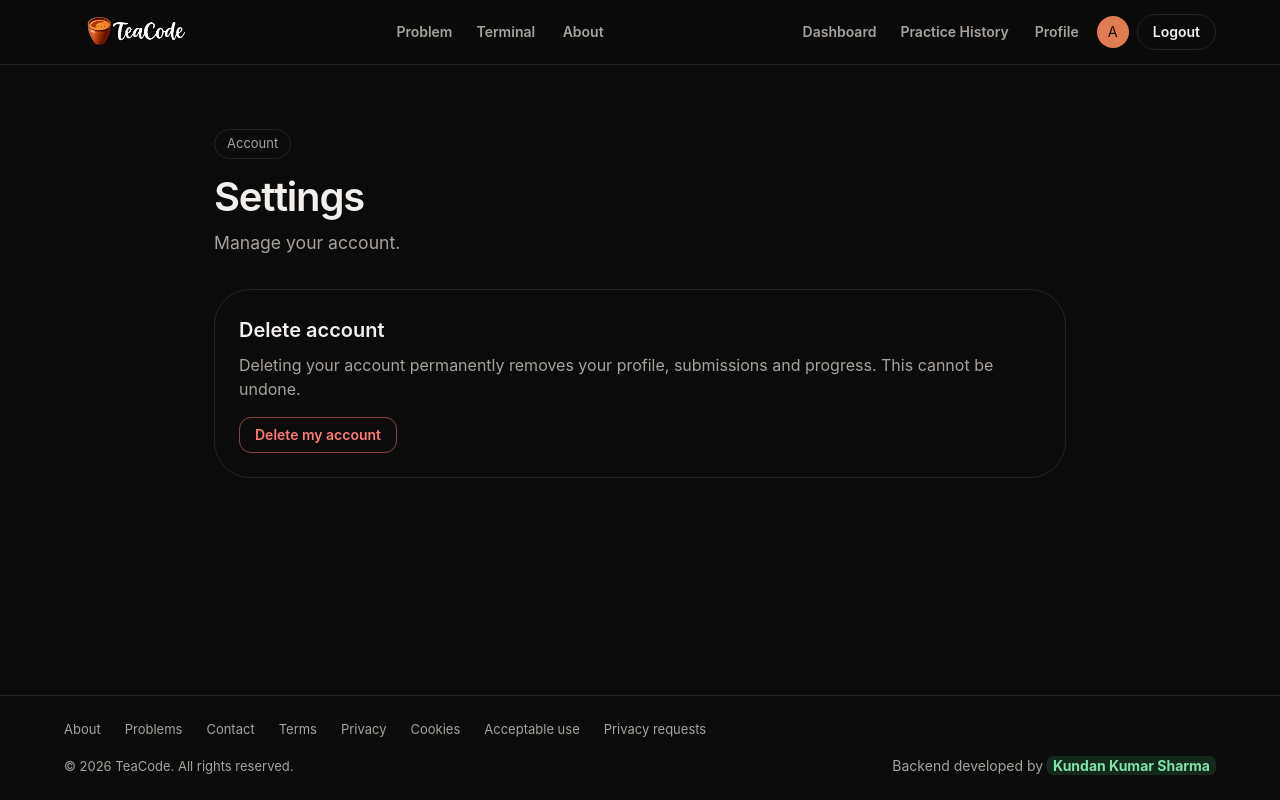
Test: settings › keeps the account and shows the error when deletion fails
Click the button "Delete my account". click: (318, 435)
box: top-left (239, 417), bottom-right (397, 453)
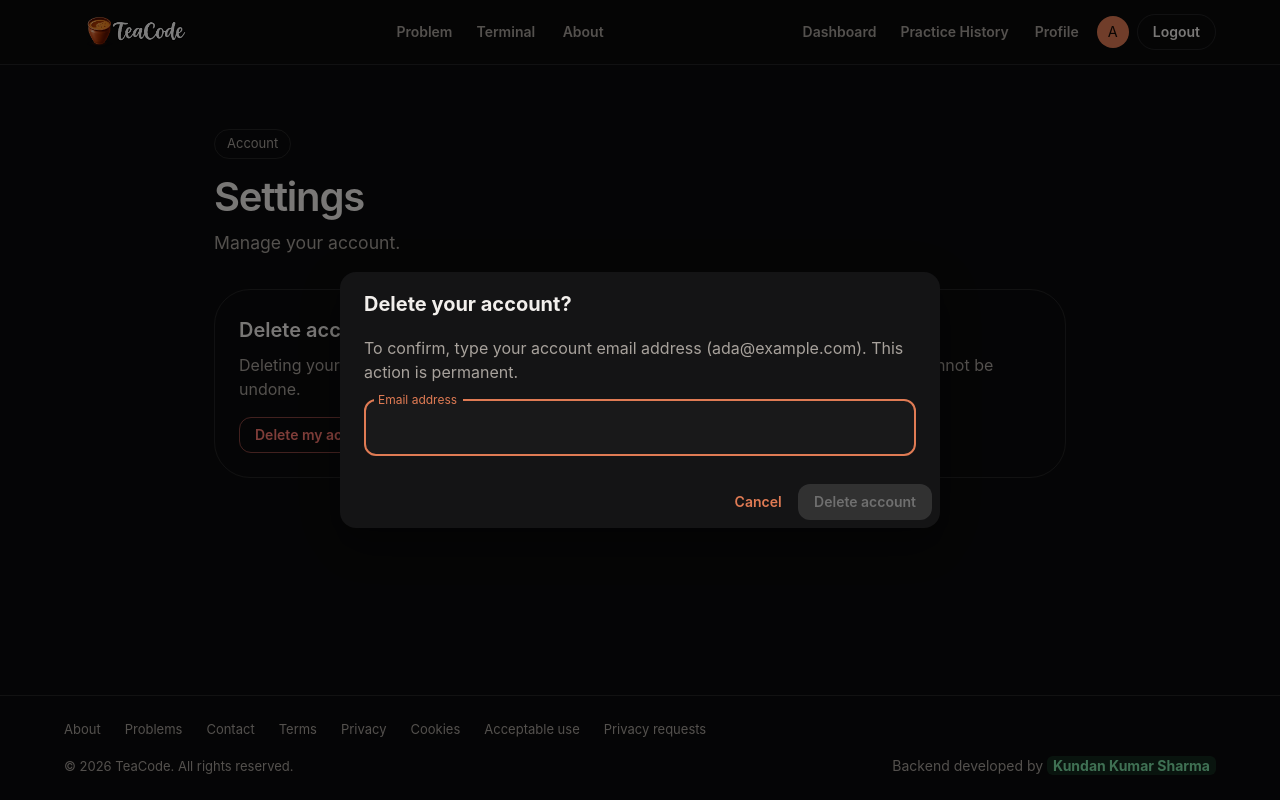
Type "wrong@example.com" into the field labelled "Email address". click: (640, 428)
box: top-left (364, 400), bottom-right (916, 456)
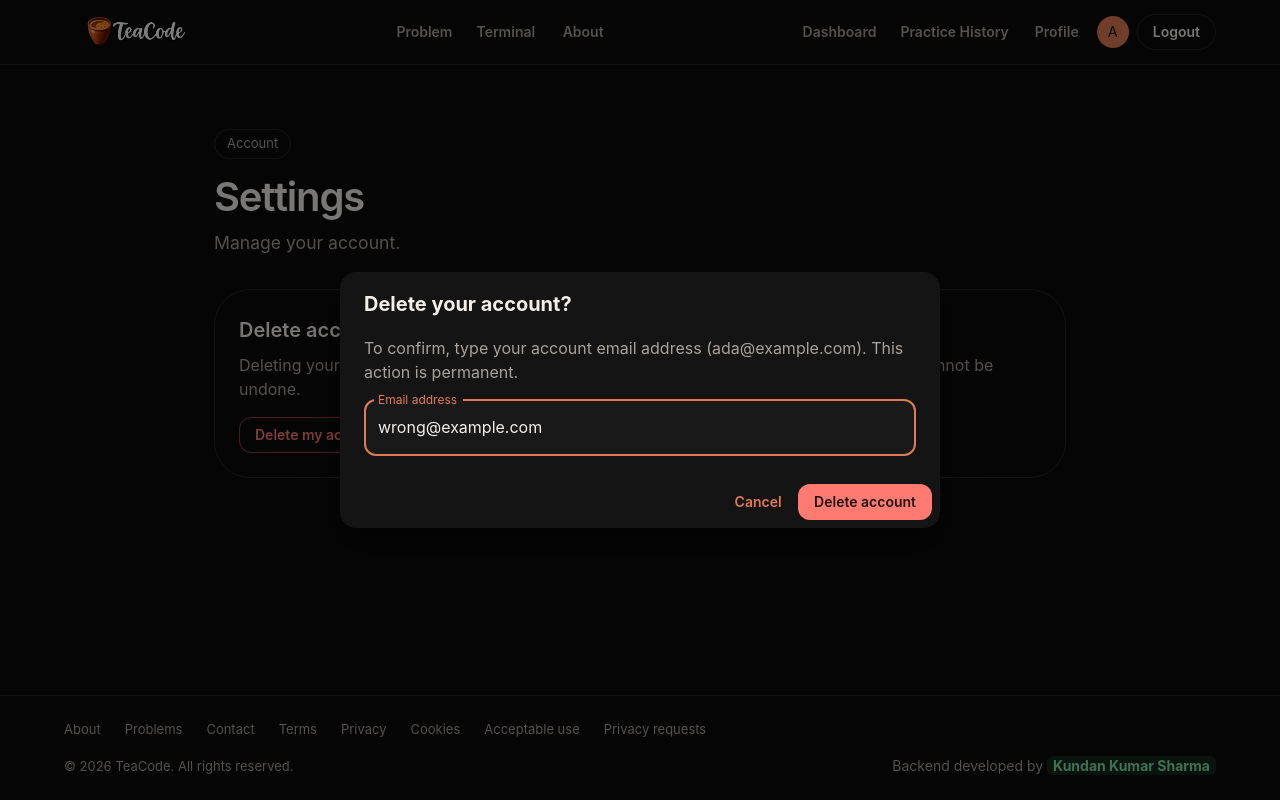
Click the button "Delete account". click: (865, 502)
box: top-left (798, 484), bottom-right (932, 520)
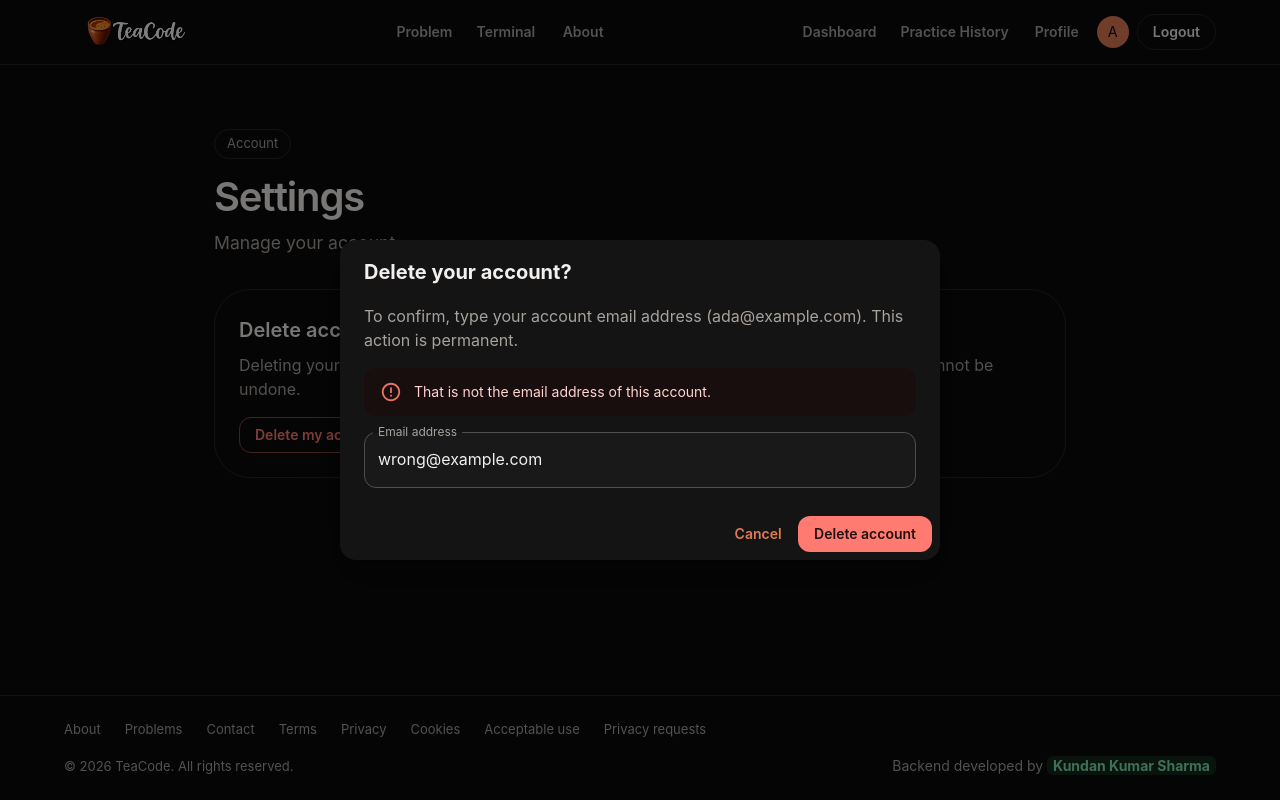
Expected: the button "Logout" is shown, top-left (1137, 14), bottom-right (1216, 50)
Expected: the text "That is not the email address of this account." is shown, top-left (414, 383), bottom-right (711, 400)
